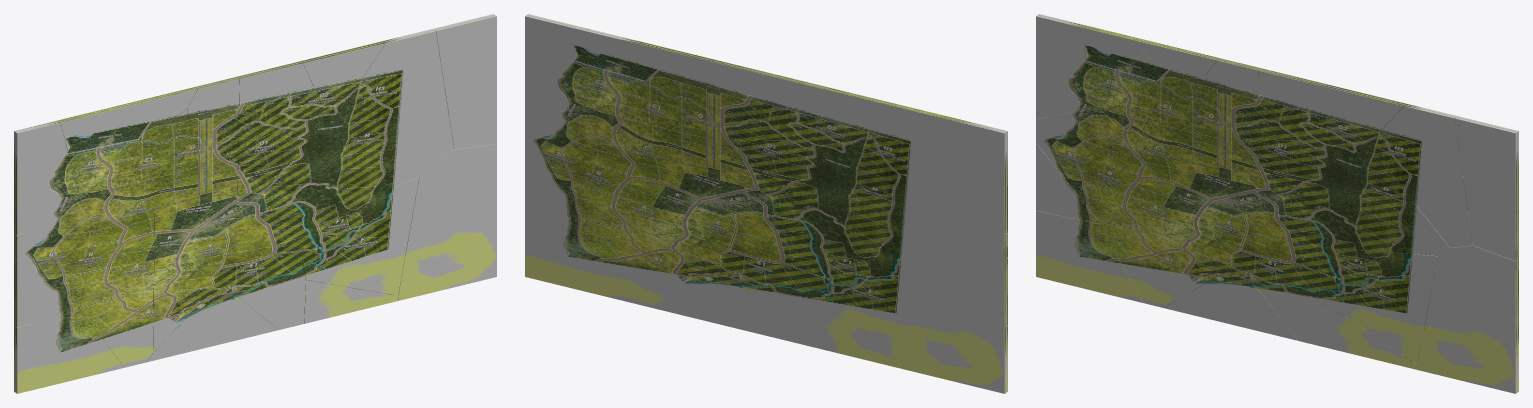
The model's file is Muraltemp.fbx.
3 views of the same model, side by side, from view 1: azimuth 30°, elevation 25°; view 2: azimuth 150°, elevation 25°; view 3: azimuth 330°, elevation 25° (orthographic).
Parts seen in each view (by area): view 1: Cube_1_fracturepart9, Cube_1_fracturepart18, Cube_1_fracturepart4, Cube_1_fracturepart8, Cube_1_fracturepart19, Cube_1_fracturepart20, Cube_1_fracturepart10, Cube_1_fracturepart17, Cube_1_fracturepart16, Cube_1_fracturepart7, Cube_1_fracturepart2, Cube_1_fracturepart12 (+9 smaller); view 2: Cube; view 3: Cube_1_fracturepart9, Cube_1_fracturepart18, Cube_1_fracturepart4, Cube_1_fracturepart8, Cube_1_fracturepart19, Cube_1_fracturepart20, Cube_1_fracturepart10, Cube_1_fracturepart17, Cube_1_fracturepart16, Cube_1_fracturepart7, Cube_1_fracturepart2, Cube_1_fracturepart12 (+9 smaller).
Boxes of the visible parts, bbox=[...] form: Cube_1_fracturepart9: bbox=[257, 88, 430, 226]; Cube_1_fracturepart18: bbox=[398, 144, 496, 300]; Cube_1_fracturepart4: bbox=[153, 189, 262, 352]; Cube_1_fracturepart8: bbox=[79, 197, 154, 367]; Cube_1_fracturepart19: bbox=[297, 177, 418, 295]; Cube_1_fracturepart20: bbox=[349, 30, 453, 162]; Cube_1_fracturepart10: bbox=[237, 62, 313, 207]; Cube_1_fracturepart17: bbox=[435, 15, 496, 149]; Cube_1_fracturepart16: bbox=[220, 222, 305, 329]; Cube_1_fracturepart7: bbox=[15, 310, 124, 393]; Cube_1_fracturepart2: bbox=[59, 108, 148, 204]; Cube_1_fracturepart12: bbox=[15, 194, 101, 306]; Cube: bbox=[525, 15, 1006, 393]; Cube_1_fracturepart9: bbox=[1276, 116, 1449, 255]; Cube_1_fracturepart18: bbox=[1417, 245, 1517, 393]; Cube_1_fracturepart4: bbox=[1172, 156, 1281, 301]; Cube_1_fracturepart8: bbox=[1098, 129, 1173, 308]; Cube_1_fracturepart19: bbox=[1316, 247, 1438, 364]; Cube_1_fracturepart20: bbox=[1368, 105, 1472, 247]; Cube_1_fracturepart10: bbox=[1256, 69, 1332, 207]; Cube_1_fracturepart17: bbox=[1455, 117, 1517, 260]; Cube_1_fracturepart16: bbox=[1239, 226, 1324, 346]; Cube_1_fracturepart7: bbox=[1036, 210, 1143, 302]; Cube_1_fracturepart2: bbox=[1079, 26, 1167, 131]; Cube_1_fracturepart12: bbox=[1036, 108, 1120, 220].
Size of the model in its own units: 919 by 477 by 10.62.
Materials: 1 (1 with a texture image).
